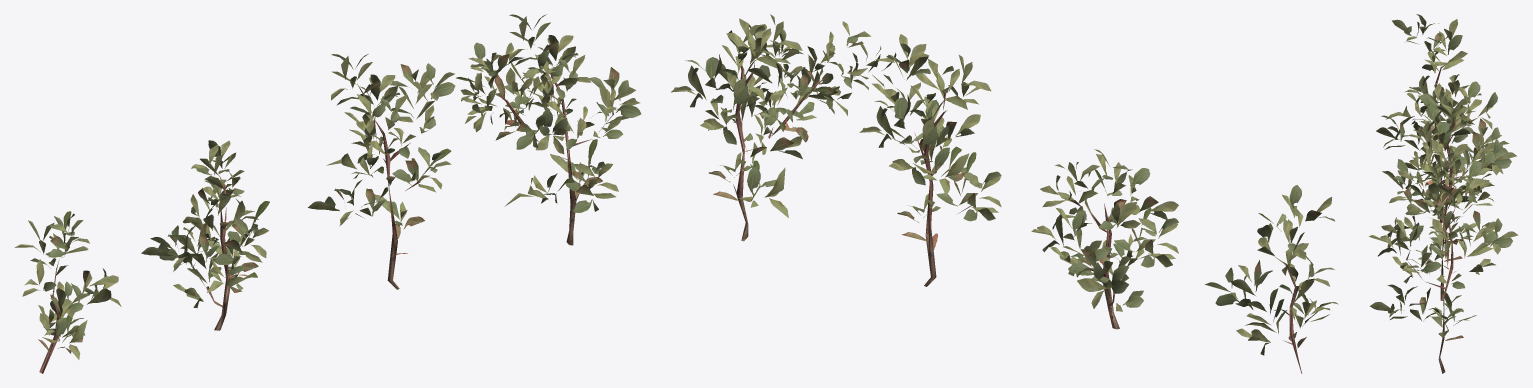
The model's file is shrub_04.glb.
The picture shows the model from 3 angles, left to right: view 1: azimuth 30°, elevation 25°; view 2: azimuth 150°, elevation 25°; view 3: azimuth 270°, elevation 25°; orthographic projection. The views are drawn at different scales.
Visible parts, largest first — view 1: shrub_04; view 2: shrub_04; view 3: shrub_04.
Part boxes in pixels (x1,y1,x2,y2): shrub_04: (15,14,641,373); shrub_04: (671,14,1338,373); shrub_04: (1369,14,1518,373).
Bounding box in the file's own units: 0.5837 × 0.2192 × 0.1461.
Materials: 1 (1 with a texture image).
